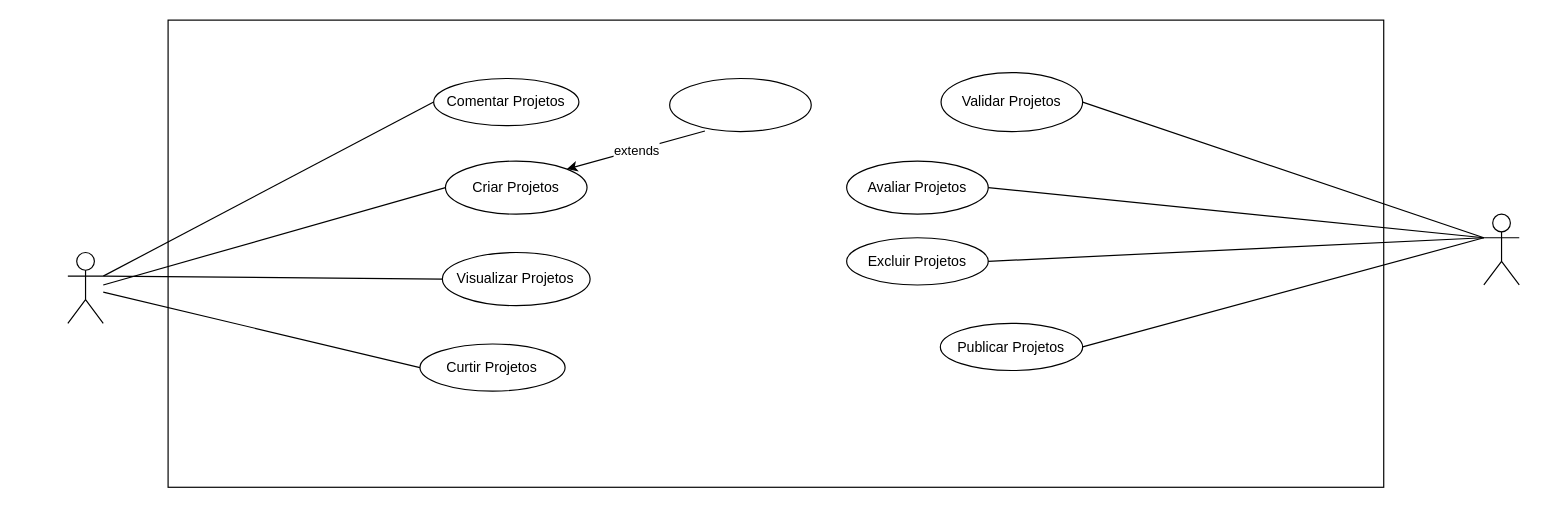
The diagram is 1566 pixels wide and 509 high, and some of its shapes have lost their labels. Here are the shapes that lost their labels. From the top down, the centre of each, then its label:
At [739,104]: "Deletar Projetos".
At [1501,249]: "Administrador".
At [85,287]: "Alunos / Professores".
